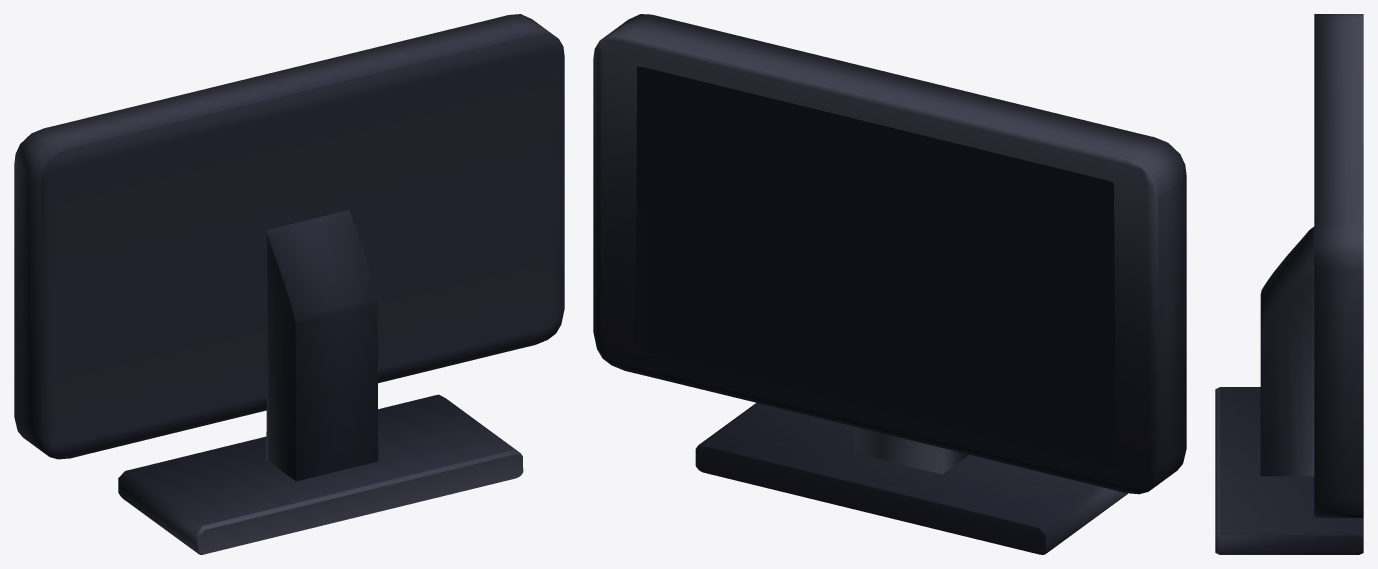
Rendered from Monitor_LOD_2.fbx.
3 renders of one model, left to right at view 1: azimuth 30°, elevation 25°; view 2: azimuth 150°, elevation 25°; view 3: azimuth 270°, elevation 25°, orthographic. The views are drawn at different scales.
Visible parts, largest first — view 1: Monitor_LOD2; view 2: Monitor_LOD2; view 3: Monitor_LOD2.
Boxes of the visible parts, x1,y1,x2,y2 form: Monitor_LOD2: (14, 14, 564, 554); Monitor_LOD2: (593, 14, 1186, 554); Monitor_LOD2: (1215, 14, 1363, 554).
Size of the model in its own units: 152 by 108 by 40.37.
